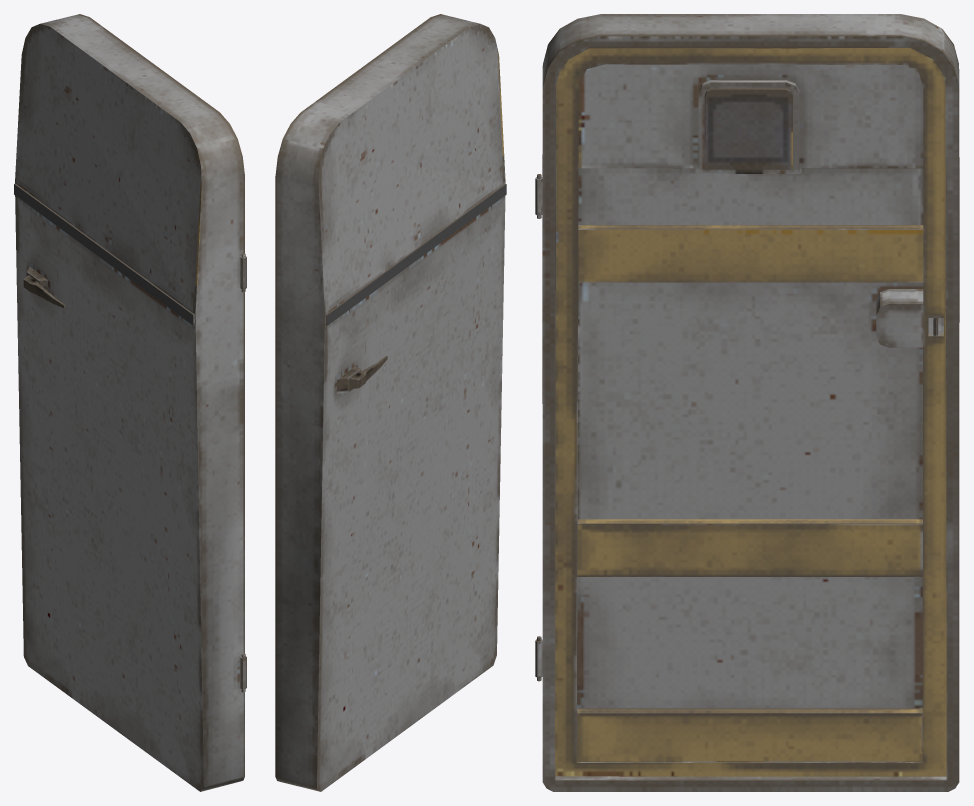
The model's file is Fridge_Door.fbx.
3 renders of one model, left to right at view 1: azimuth 30°, elevation 25°; view 2: azimuth 150°, elevation 25°; view 3: azimuth 270°, elevation 25°, orthographic. The views are drawn at different scales.
Visible parts, largest first — view 1: Fridge_Door; view 2: Fridge_Door; view 3: Fridge_Door.
Part boxes in pixels (x1,y1,x2,y2): Fridge_Door: (14, 14, 246, 791); Fridge_Door: (275, 14, 506, 791); Fridge_Door: (535, 14, 959, 791).
Bounding box in the file's own units: 91.51 × 17.95 × 180.
